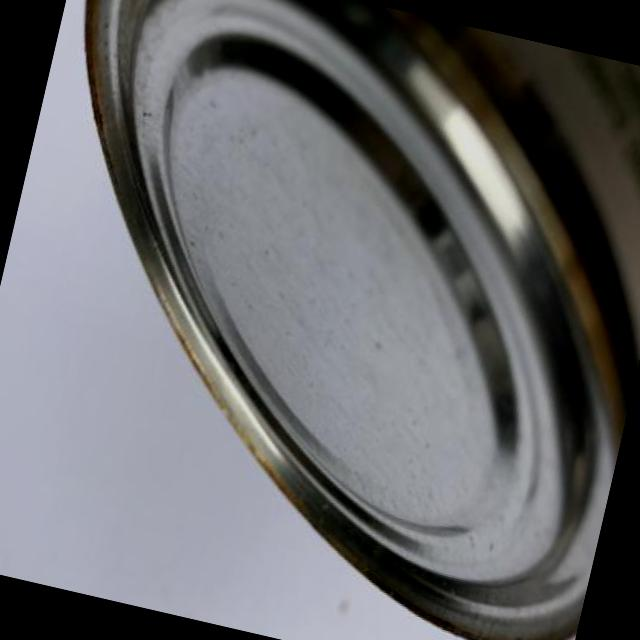nhom: (83, 0, 640, 640)
